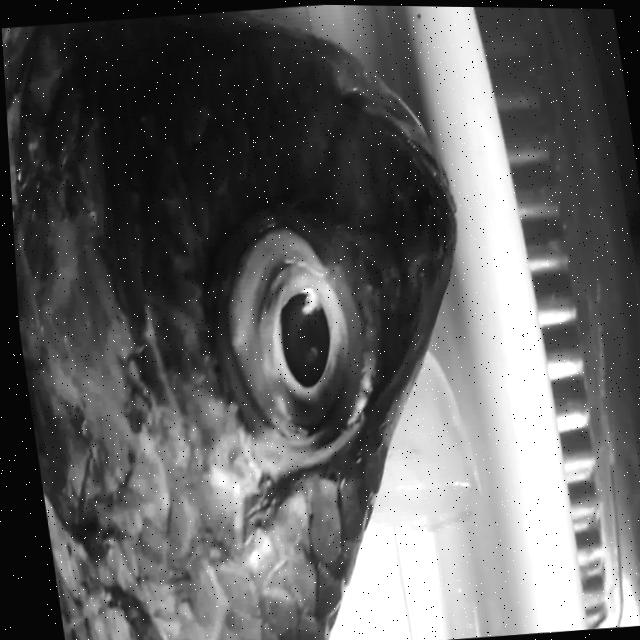Fresh: (189, 175, 403, 495)
